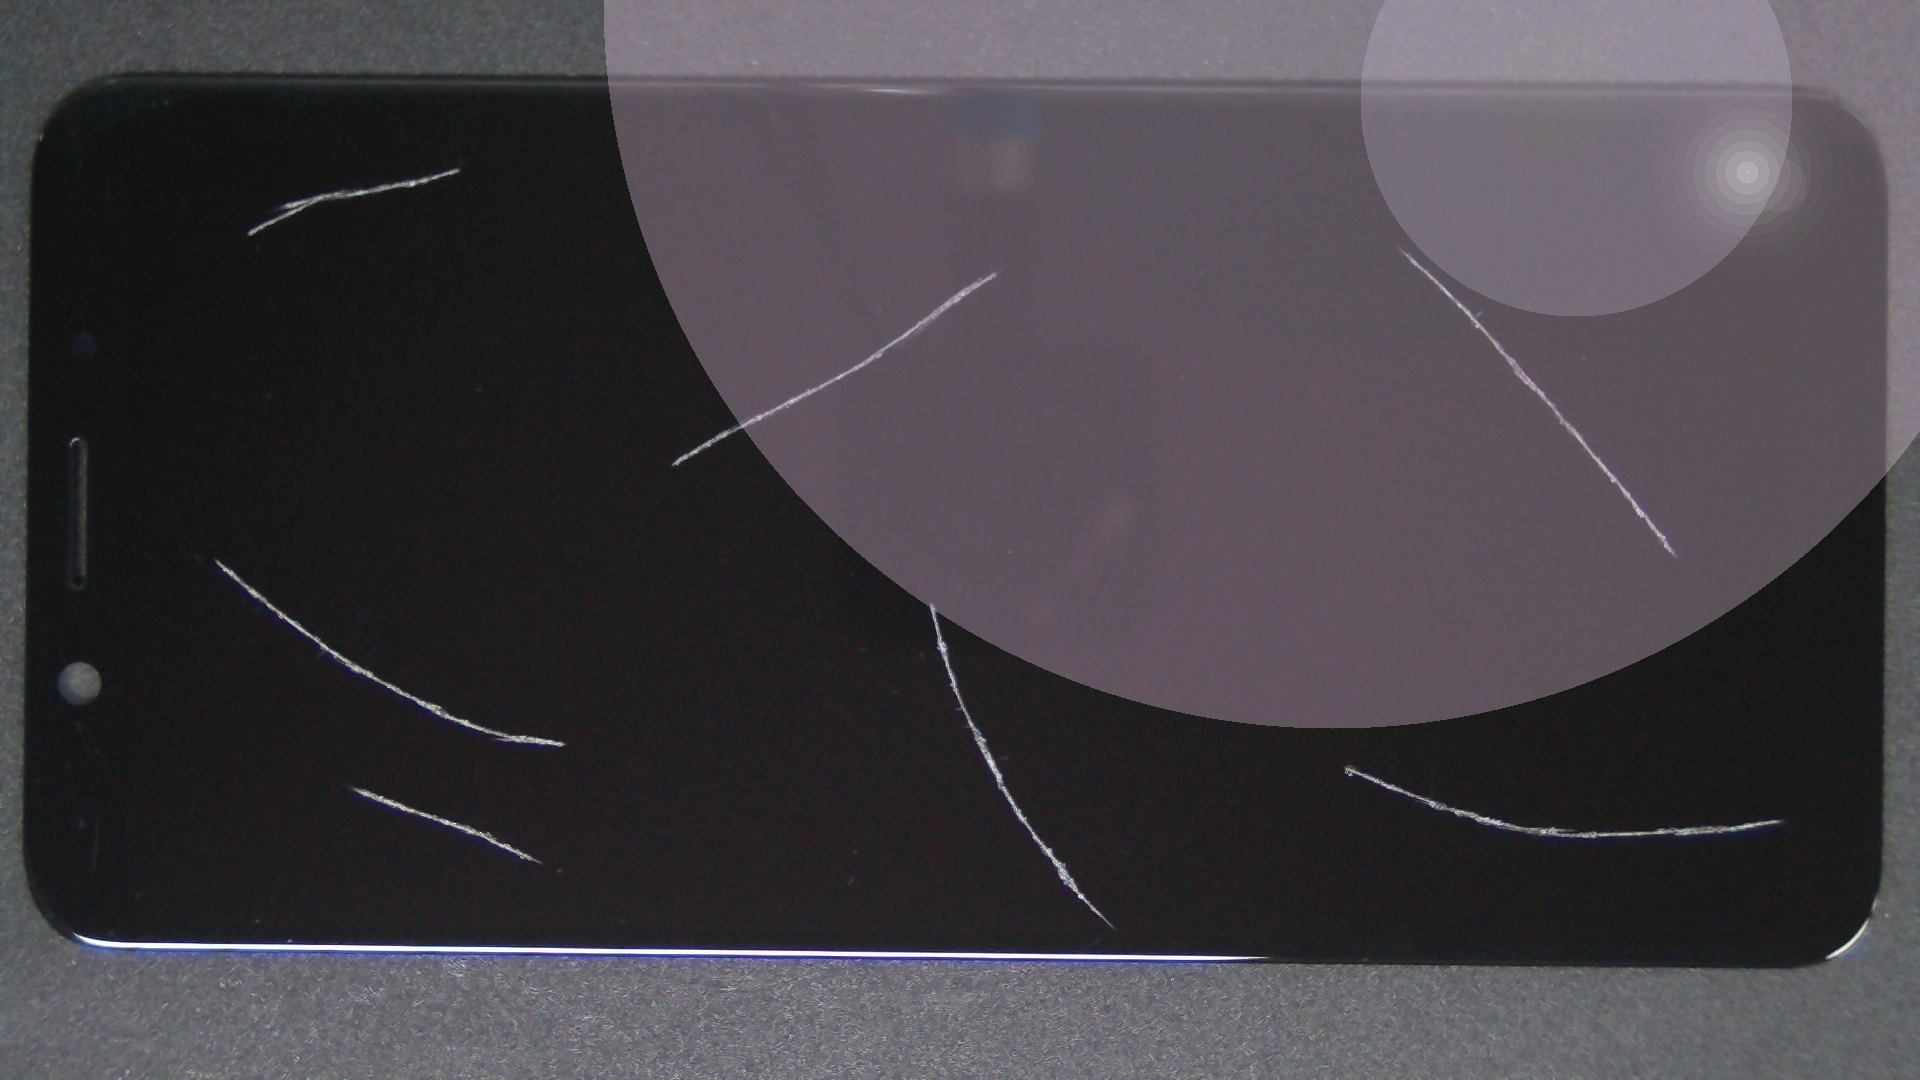oil: (674, 381, 1920, 1080), (464, 299, 1393, 902), (694, 120, 1920, 376), (498, 135, 1494, 407), (175, 392, 525, 1080), (91, 264, 335, 855), (229, 83, 688, 249)
